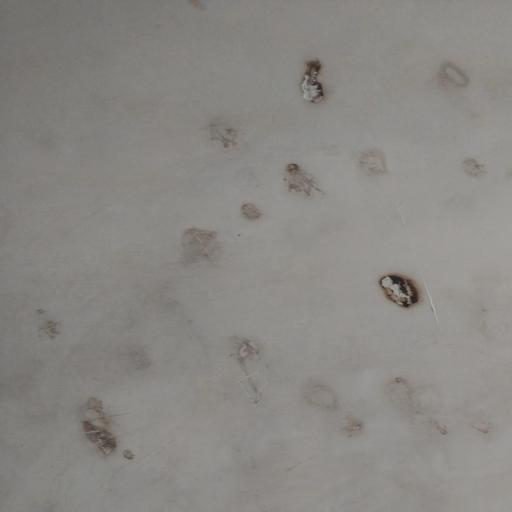stain: (0, 10, 512, 512)
